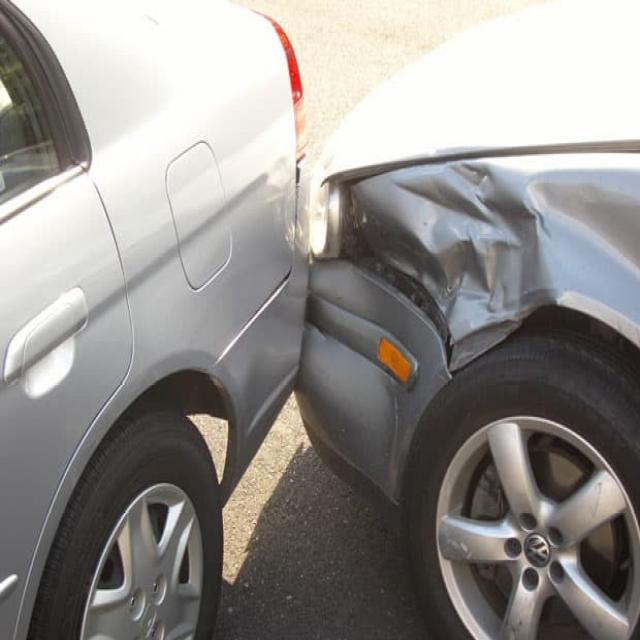crush: (306, 152, 640, 443)
